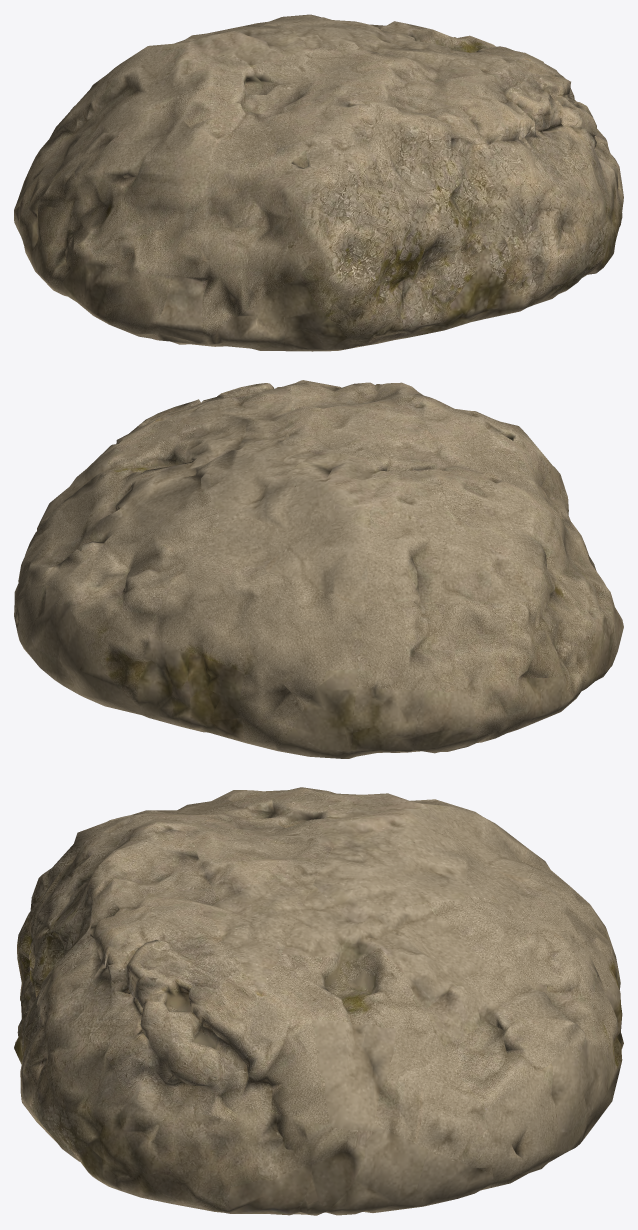
The model's file is roca.glb.
The picture shows the model from 3 angles, top to bottom: view 1: azimuth 30°, elevation 25°; view 2: azimuth 150°, elevation 25°; view 3: azimuth 270°, elevation 25°; orthographic projection. The views are drawn at different scales.
Visible parts, largest first — view 1: aligerado; view 2: aligerado; view 3: aligerado.
Boxes of the visible parts, box(x1,y1,x2,y2) form: aligerado: box(14, 14, 623, 351); aligerado: box(14, 380, 623, 758); aligerado: box(14, 787, 623, 1215).
Bounding box in the file's own units: 2.66 × 1 × 2.3.
Materials: 1 (1 with a texture image).
